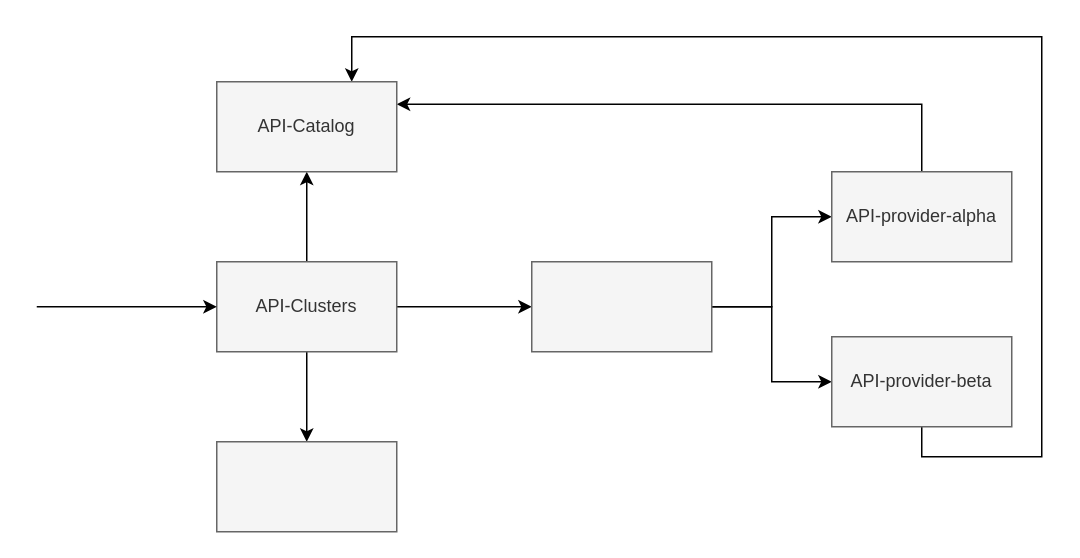
The diagram is 1080 pixels wide and 558 high, and some of its shapes have lost their labels. The box of each missing label's shape, as (x1, y1, x2, y2) in pixels:
API-Itineraries-search: (530, 260, 712, 352)
API-Pricing: (215, 440, 397, 532)
